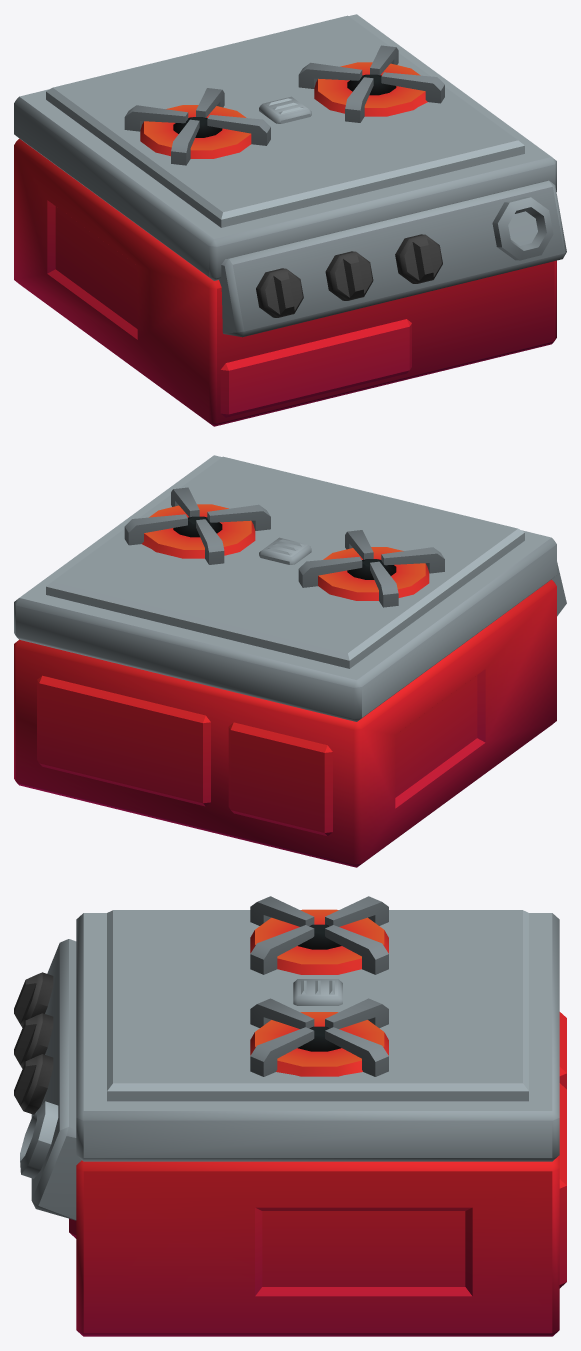
File: stove 2.glb
3 views of the same model, one above another, from view 1: azimuth 30°, elevation 25°; view 2: azimuth 150°, elevation 25°; view 3: azimuth 270°, elevation 25° (orthographic). The views are drawn at different scales.
Parts seen in each view (by area): view 1: stove_multi; view 2: stove_multi; view 3: stove_multi.
Part boxes in pixels (box(x1,y1,x2,y2)): stove_multi: box(14, 14, 566, 426); stove_multi: box(14, 455, 566, 867); stove_multi: box(14, 896, 566, 1336).
Bounding box in the file's own units: 2 × 1.21 × 2.29.
Materials: 1 (1 with a texture image).
